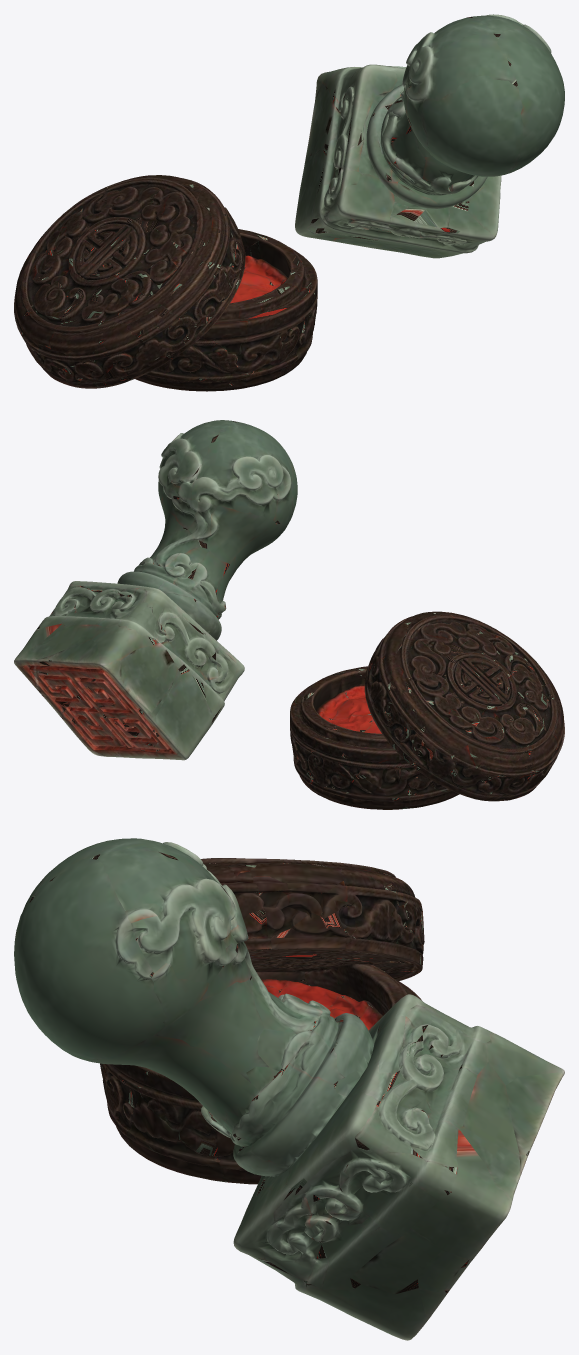
Rendered from security.glb.
3 views of the same model, one above another, from view 1: azimuth 30°, elevation 25°; view 2: azimuth 150°, elevation 25°; view 3: azimuth 270°, elevation 25° (orthographic). The views are drawn at different scales.
Size of the model in its own units: 1.9 by 1.11 by 1.22.
1 material, 1 textured.
